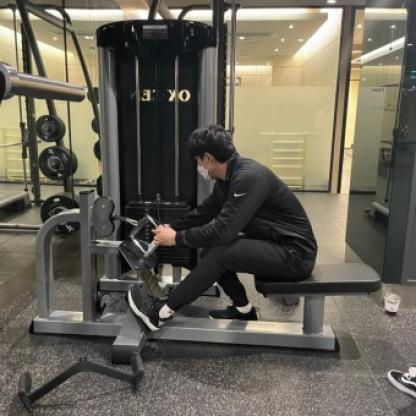Seated Cable Rows: (21, 26, 384, 371)
